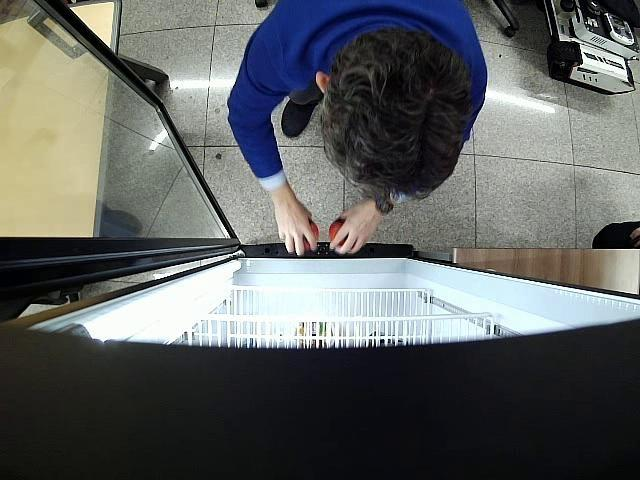02_shinRamen_S: (294, 218, 318, 253), (327, 217, 348, 248)
